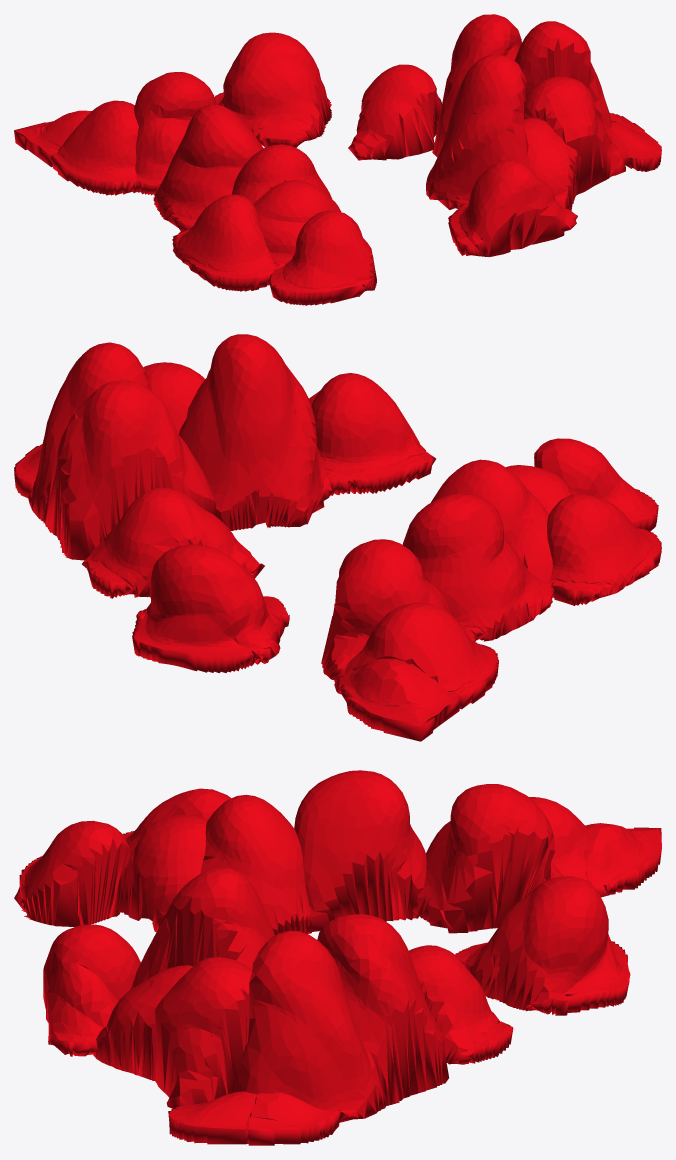
The model's file is land_pointcloud2.fbx.
3 views of the same model, one above another, from view 1: azimuth 30°, elevation 25°; view 2: azimuth 150°, elevation 25°; view 3: azimuth 270°, elevation 25° (orthographic). The views are drawn at different scales.
Visible parts, largest first — view 1: Outline; view 2: Outline; view 3: Outline.
Boxes of the visible parts, x1,y1,x2,y2 form: Outline: [14, 14, 661, 305]; Outline: [14, 334, 661, 741]; Outline: [14, 770, 661, 1145].
Bounding box in the file's own units: 10231 × 2797 × 9167.
